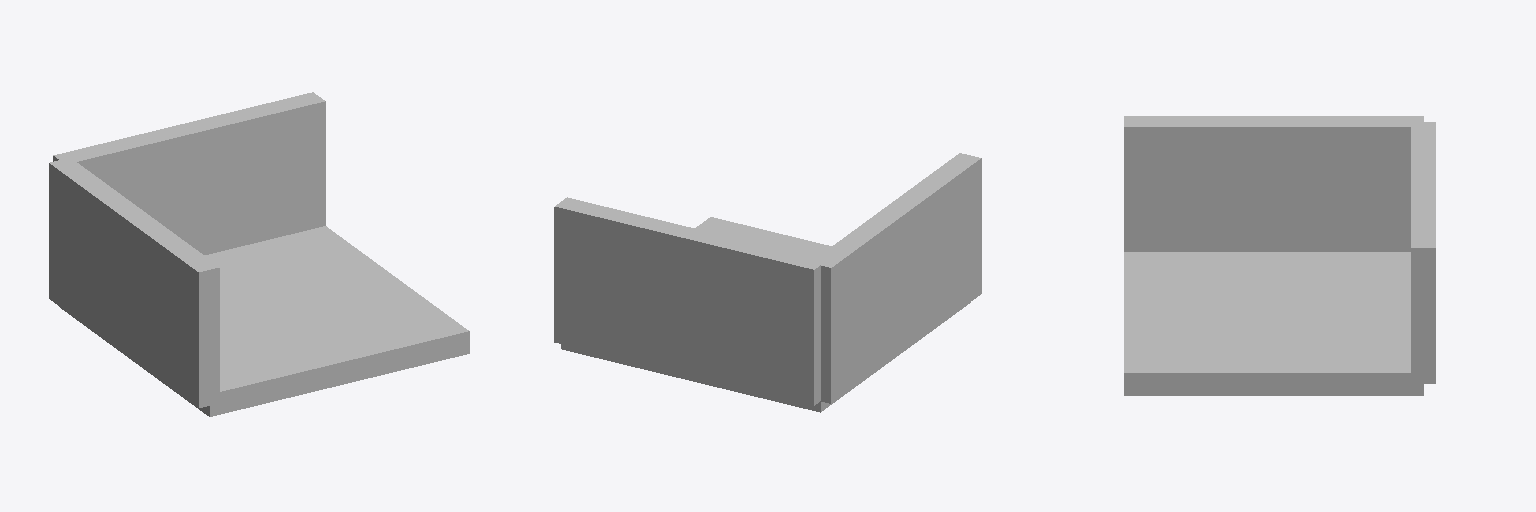
The model's file is tile6.obj.
The picture shows the model from 3 angles: view 1: azimuth 30°, elevation 25°; view 2: azimuth 150°, elevation 25°; view 3: azimuth 270°, elevation 25°; orthographic projection.
Visible parts, largest first — view 1: Cube_Cube.001, Cube.001_Cube.004, Cube.002_Cube.005; view 2: Cube.002_Cube.005, Cube.001_Cube.004, Cube_Cube.001; view 3: Cube_Cube.001, Cube.001_Cube.004, Cube.002_Cube.005.
Boxes of the visible parts, <box> form: Cube_Cube.001: <box>60,226,469,416</box>; Cube.001_Cube.004: <box>49,160,219,407</box>; Cube.002_Cube.005: <box>53,92,325,254</box>; Cube.002_Cube.005: <box>554,197,825,405</box>; Cube.001_Cube.004: <box>817,153,981,403</box>; Cube_Cube.001: <box>561,217,970,412</box>; Cube_Cube.001: <box>1124,252,1423,395</box>; Cube.001_Cube.004: <box>1124,116,1423,251</box>; Cube.002_Cube.005: <box>1411,122,1435,383</box>.
Size of the model in its own units: 12.5 by 6.5 by 12.5.